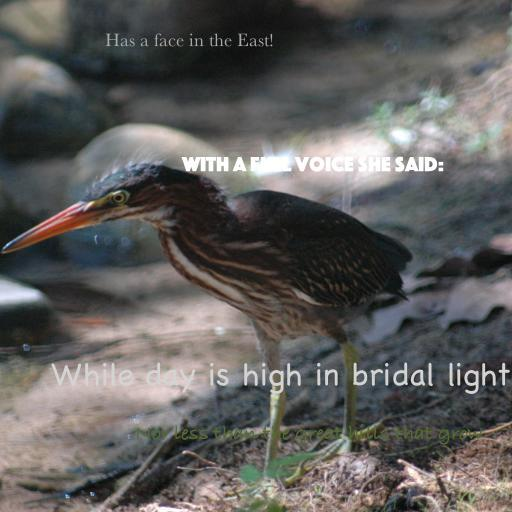Baskerville: (104, 33, 274, 47)
Bradley Hand: (134, 423, 482, 445)
Chalkboard: (51, 362, 511, 395)
Phosphate: (182, 156, 444, 172)
